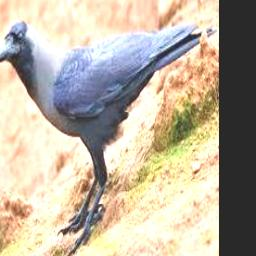Crow: (0, 19, 218, 256)
